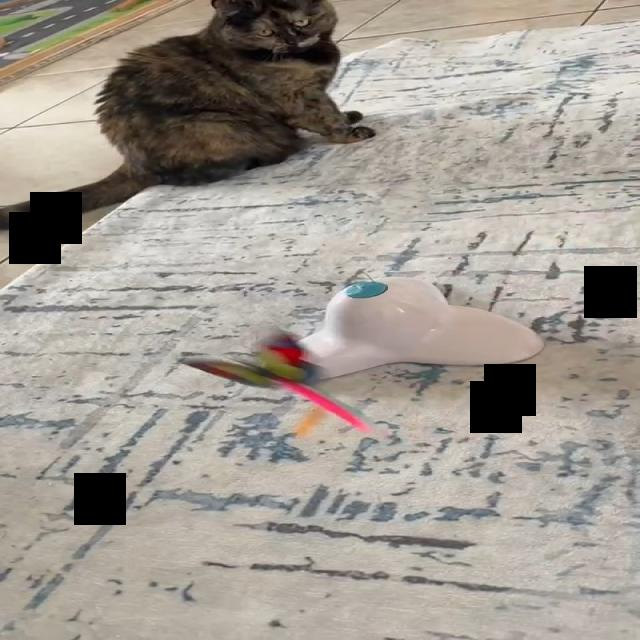authorized: (0, 0, 375, 230)
